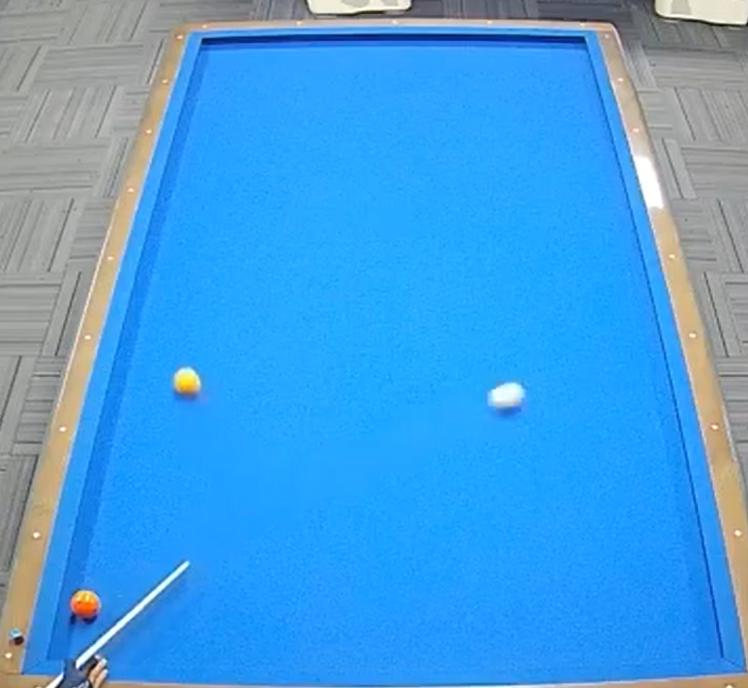orange ball: (66, 585, 106, 624)
white ball: (481, 377, 533, 419)
yellow ball: (169, 364, 207, 404)
